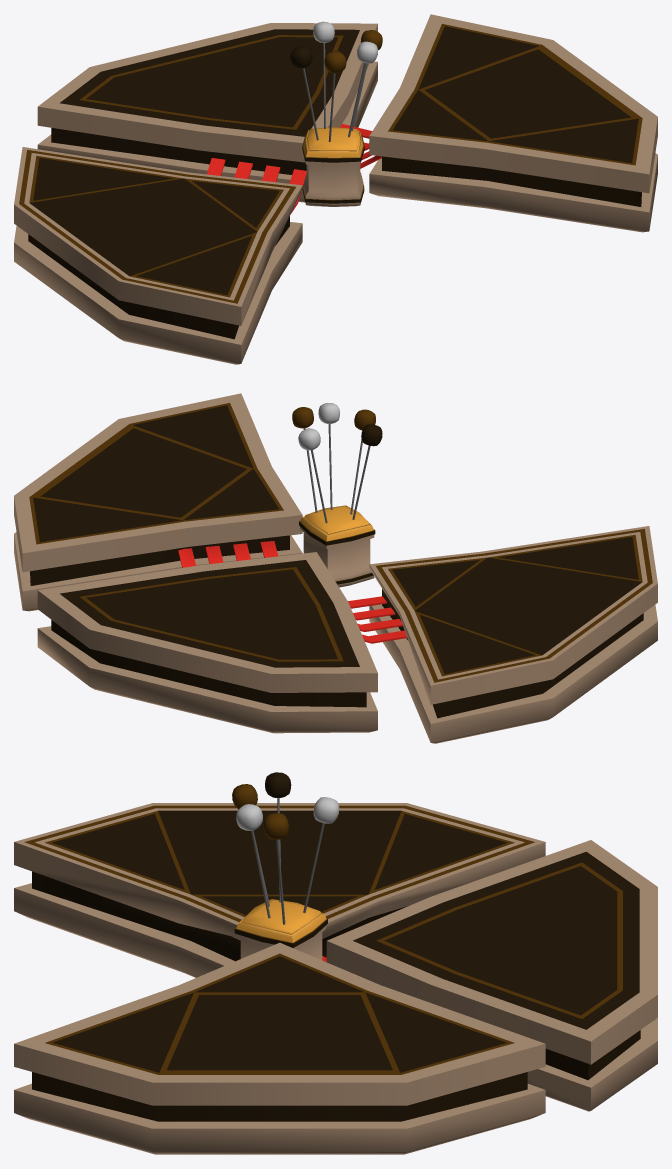
The model's file is Level.6.fbx.
3 renders of one model, top to bottom at view 1: azimuth 30°, elevation 25°; view 2: azimuth 150°, elevation 25°; view 3: azimuth 270°, elevation 25°, orthographic. The views are drawn at different scales.
Visible parts, largest first — view 1: Level.6, Level.008; view 2: Level.6, Level.008; view 3: Level.6, Level.008.
Part boxes in pixels (x1,y1,x2,y2): Level.6: (14,14,657,364); Level.008: (290,21,382,206); Level.6: (14,393,657,743); Level.008: (292,403,382,587); Level.6: (14,803,657,1154); Level.008: (232,772,339,960).
Size of the model in its own units: 2891 by 1029 by 2461.
